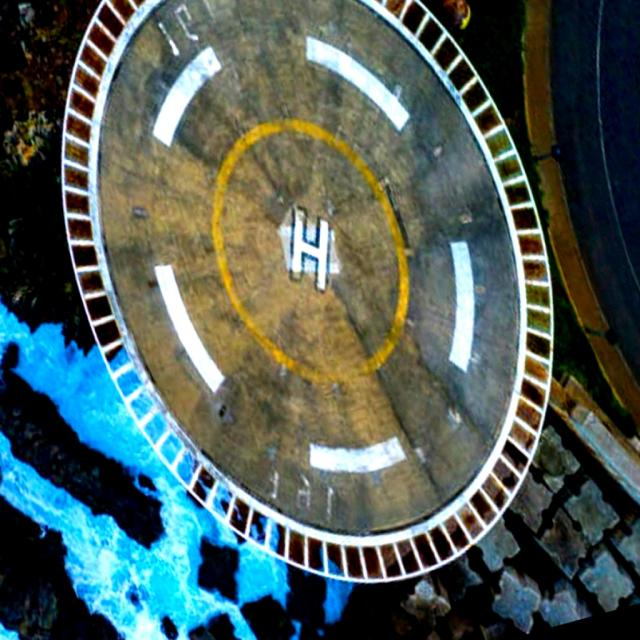helipad: (205, 108, 413, 388)
